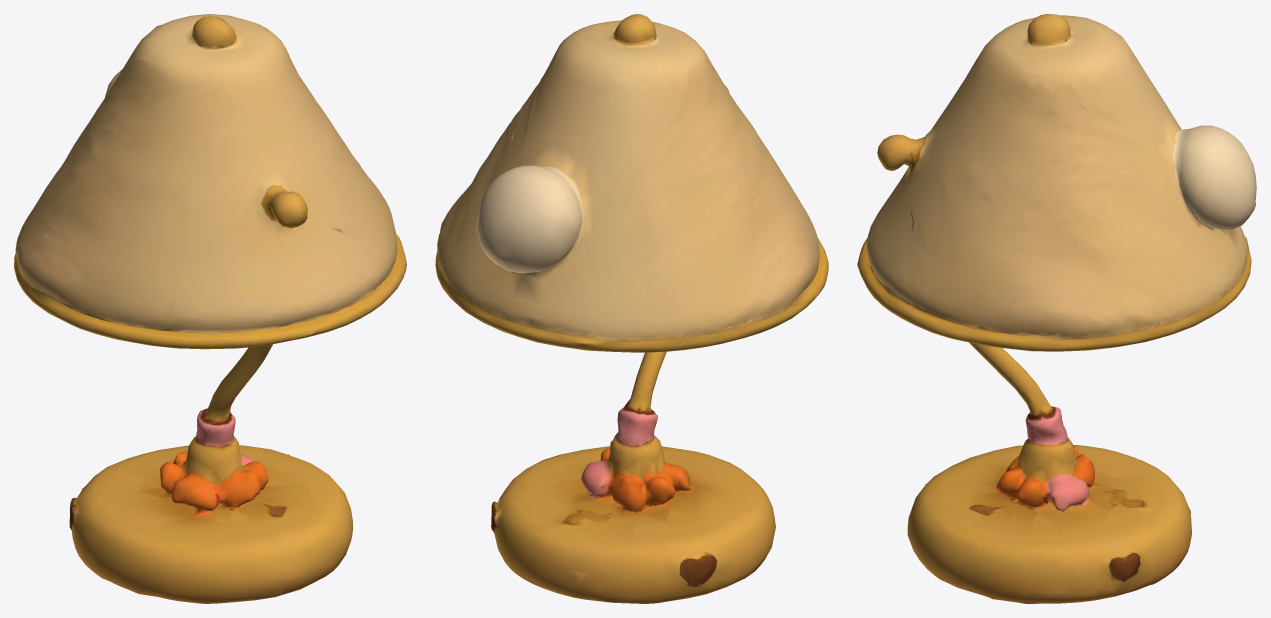
File: room-desk-lamp.glb
The picture shows the model from 3 angles, left to right: view 1: azimuth 30°, elevation 25°; view 2: azimuth 150°, elevation 25°; view 3: azimuth 270°, elevation 25°; orthographic projection.
Parts seen in each view (by area): view 1: tripo_node_97ce0818-e5cc-4c4a-be1c-2b2ccb75e435; view 2: tripo_node_97ce0818-e5cc-4c4a-be1c-2b2ccb75e435; view 3: tripo_node_97ce0818-e5cc-4c4a-be1c-2b2ccb75e435.
Boxes of the visible parts, x1,y1,x2,y2 form: tripo_node_97ce0818-e5cc-4c4a-be1c-2b2ccb75e435: (14,14,406,603); tripo_node_97ce0818-e5cc-4c4a-be1c-2b2ccb75e435: (435,14,828,603); tripo_node_97ce0818-e5cc-4c4a-be1c-2b2ccb75e435: (857,14,1256,603).
Size of the model in its own units: 0.6566 by 0.9764 by 0.6617.
1 material, 1 textured.
